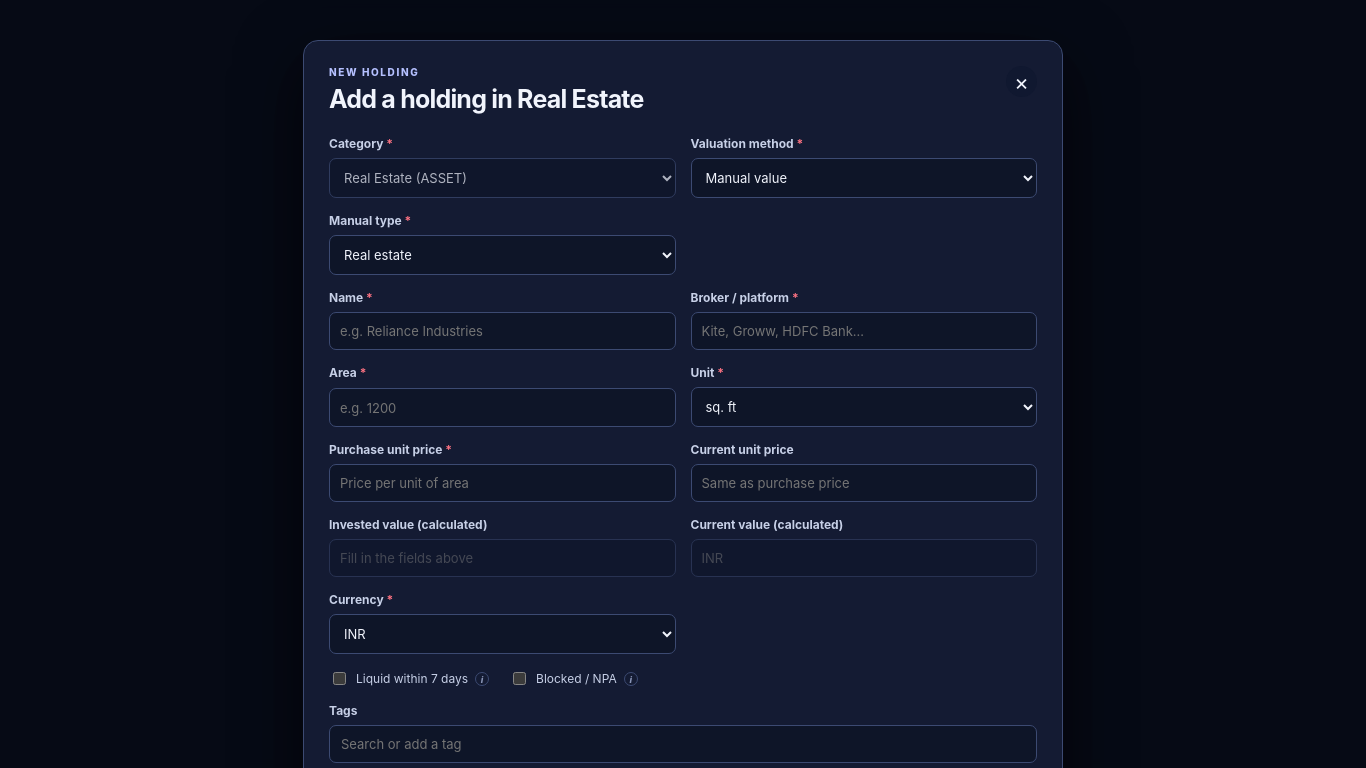
it: HoldingModal — manual types › calculates invested and current values from area x unit price, defaulting current to purchase
Type "1200" into the number field labelled "Area *" at [502, 408], box left=329, top=388, right=676, bottom=427
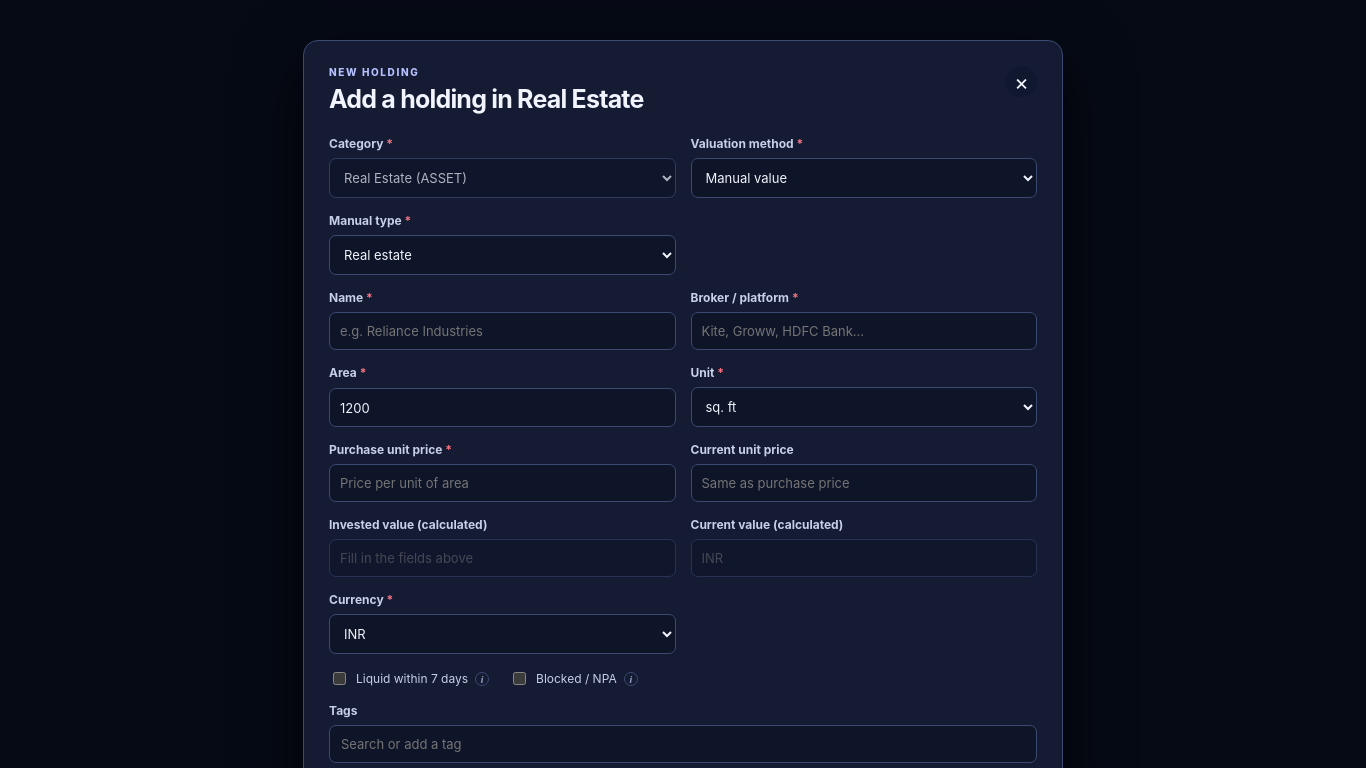
Type "4000" into the number field labelled "Purchase unit price *" at [502, 483], box left=329, top=464, right=676, bottom=502
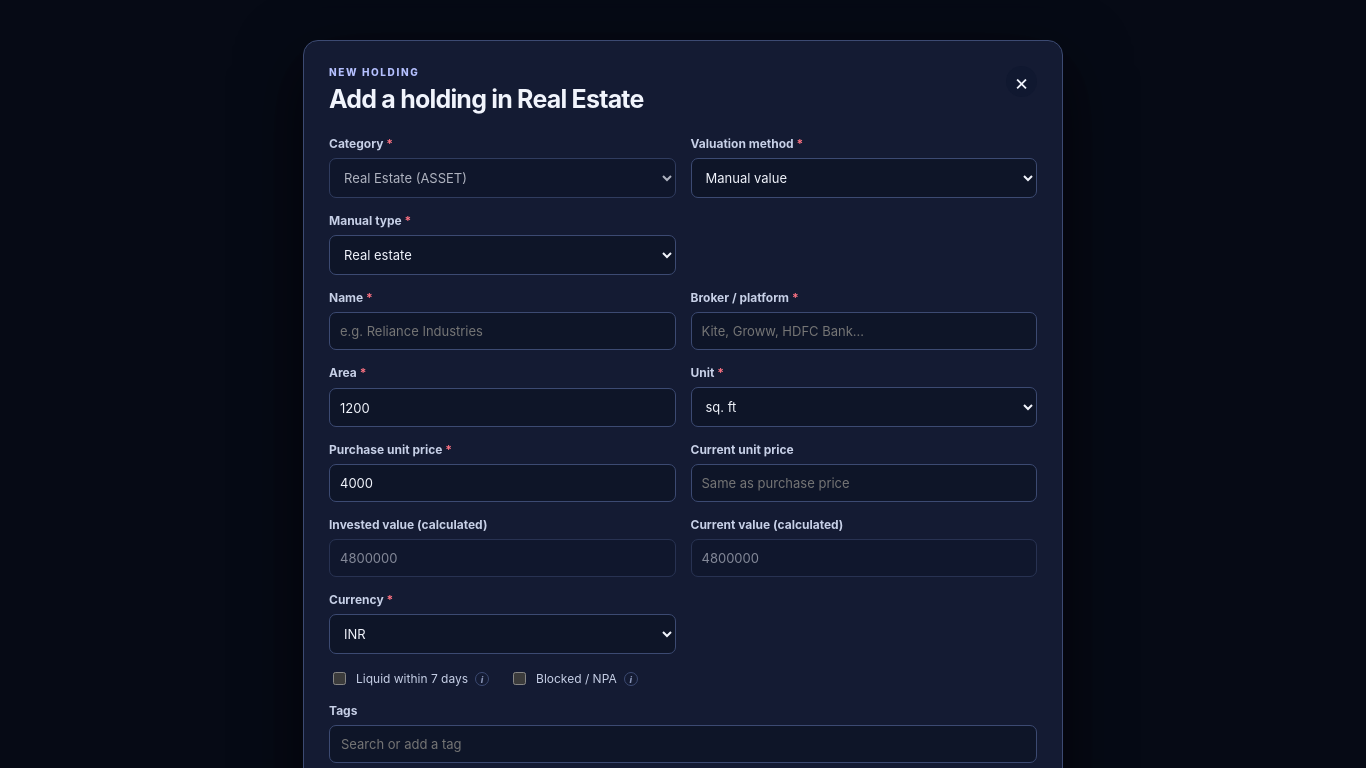
Expected: the field labelled "Invested value (calculated)" holds "4800000", left=329, top=539, right=676, bottom=577
Expected: the field labelled "Current value (calculated)" holds "4800000", left=690, top=539, right=1037, bottom=577
Type "5000" into the number field labelled "Current unit price" at [864, 483], box left=690, top=464, right=1037, bottom=502
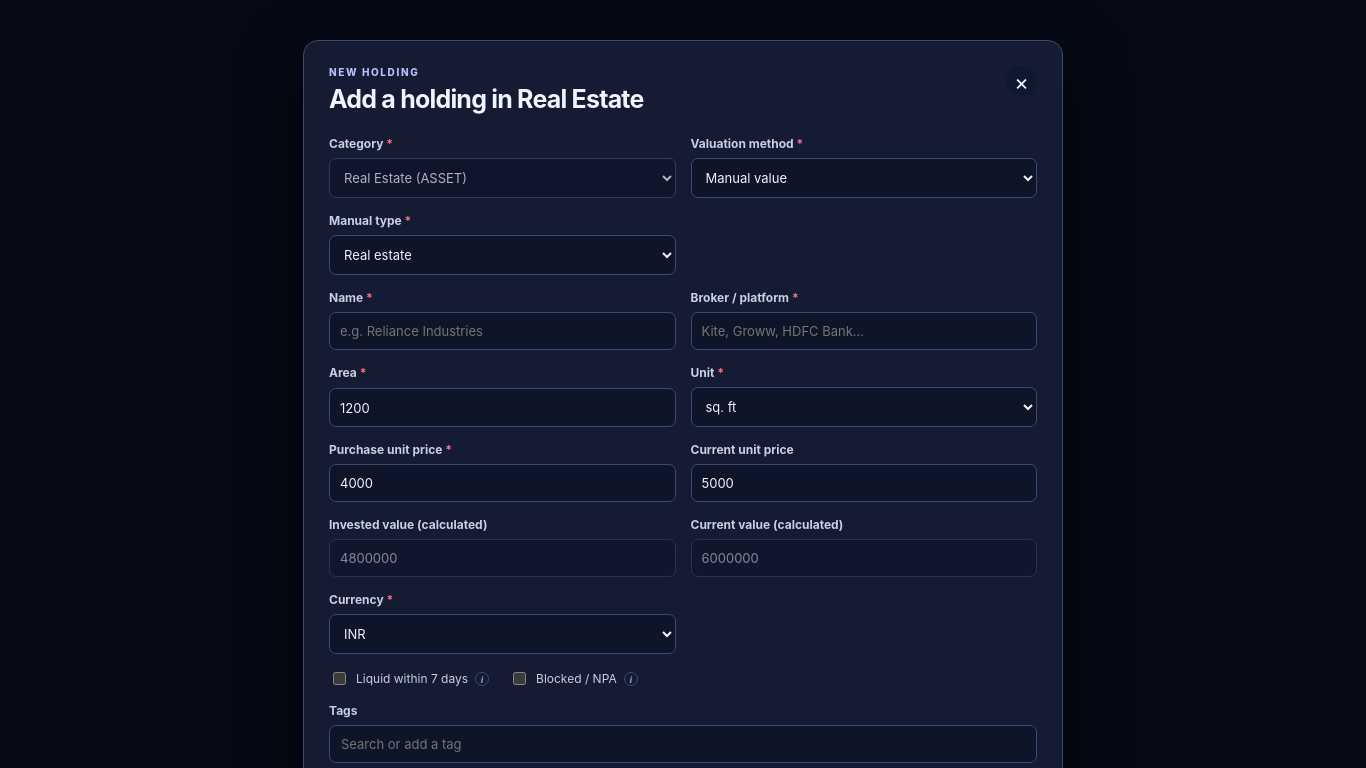
Expected: the field labelled "Current value (calculated)" holds "6000000", left=690, top=539, right=1037, bottom=577
